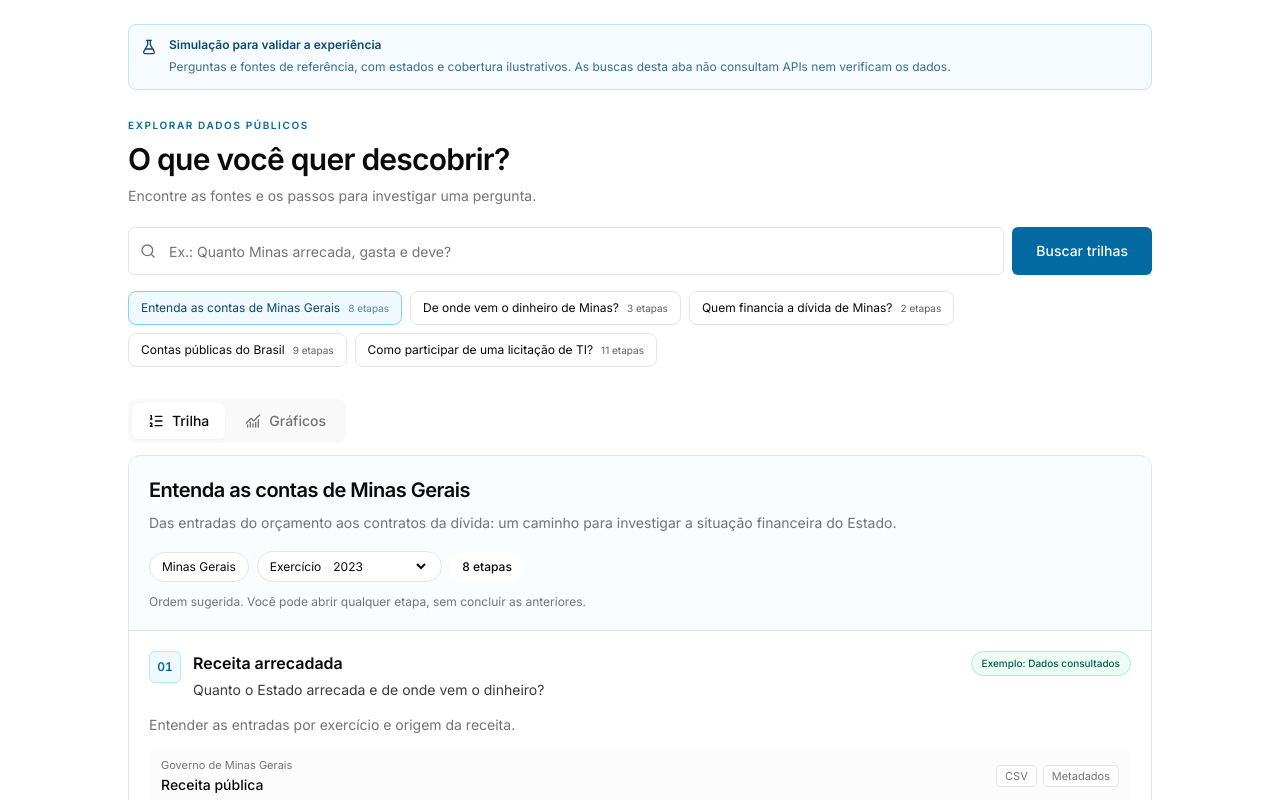
InvestigationTrailDemo › encontra as contas do Brasil e troca o território, as fontes e o número de etapas
Type "Contas públicas do Brasil" into the field named "Pergunta da investigação". click: (566, 251)
box: [128,227,1004,275]
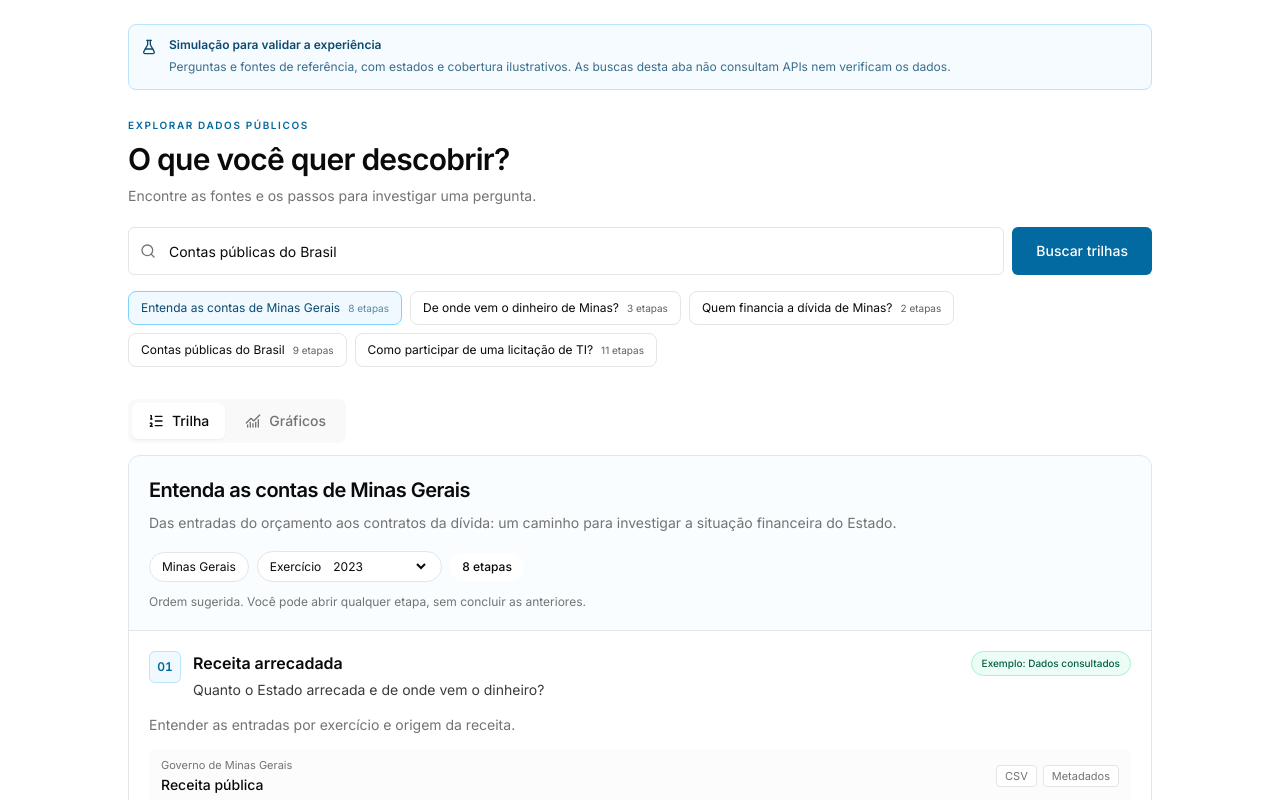
Click the button "Buscar trilhas". click: (1082, 251)
box: [1012,227,1152,275]
(page scrolled)
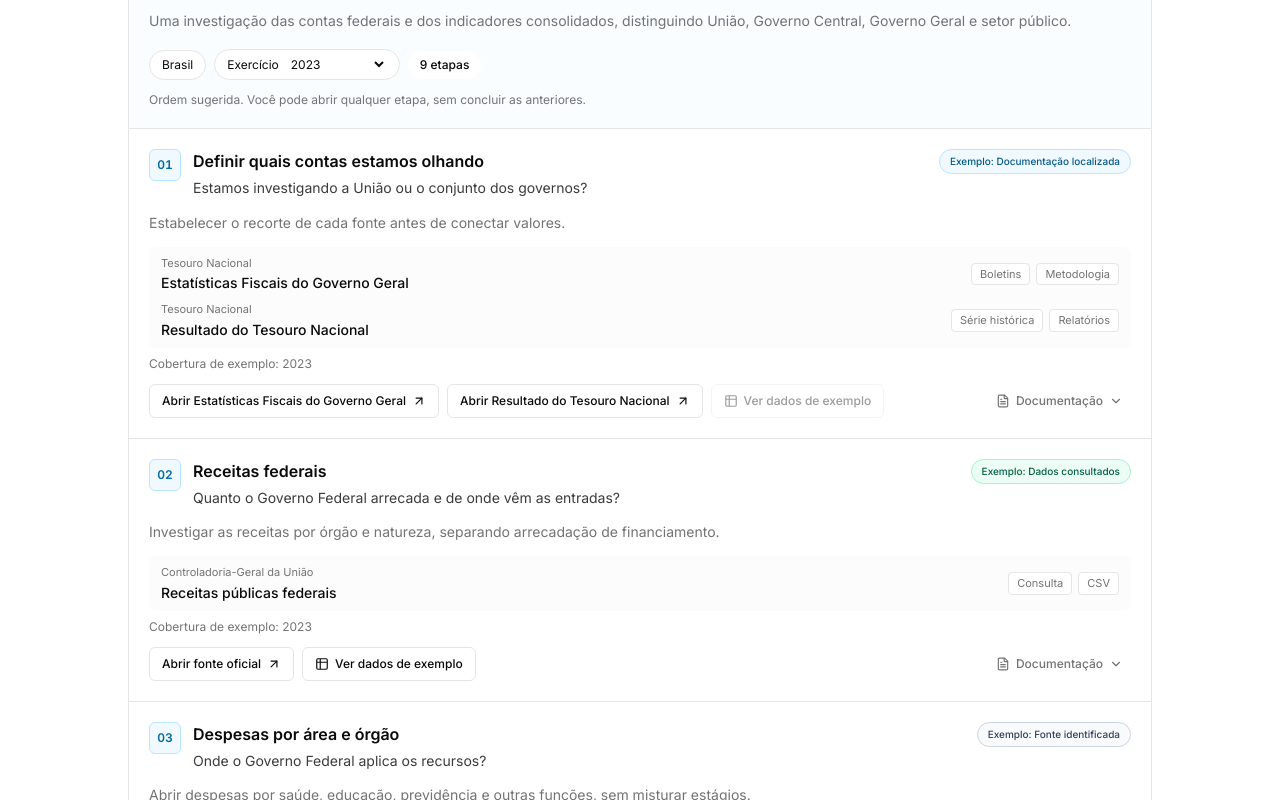
Expected: the text named "Quantidade de etapas" reads "9 etapas", [408,50,481,78]
Expected: the text "Brasil" is shown, [149,50,206,80]
Expected: the text "Governo de Minas Gerais" is gone
Click the 1st button "Documentação". click: (1060, 400)
box: [988,384,1131,416]
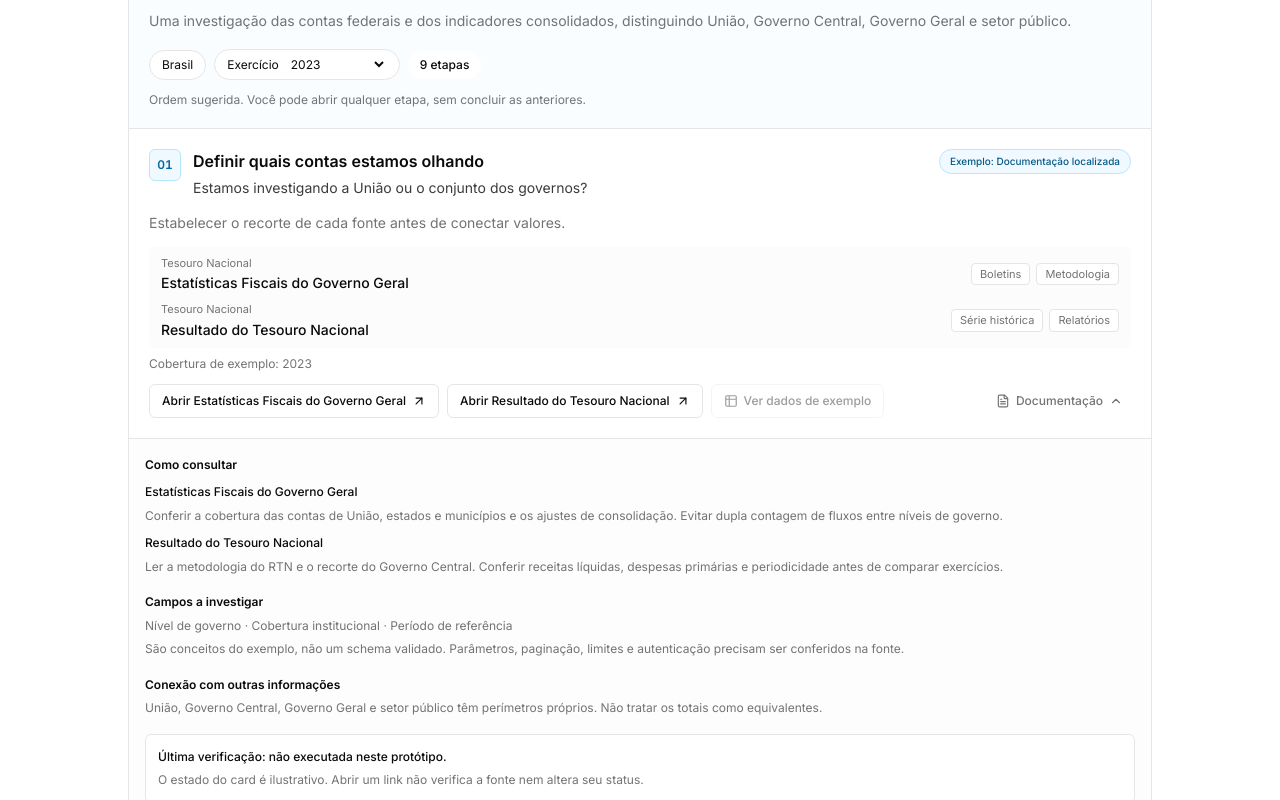
Expected: the text "União, Governo Central, Governo Geral e setor público têm perímetros próprios" is shown, [145,700,822,715]
Expected: the text "Última verificação: não executada neste protótipo." is shown, [158,748,447,764]
